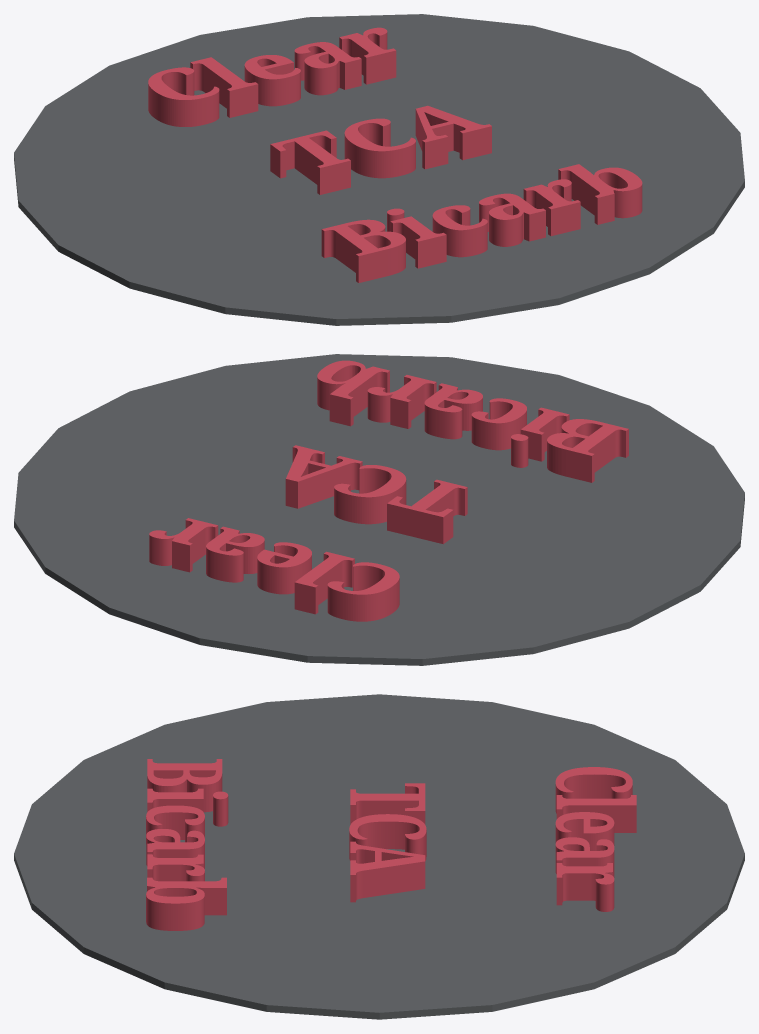
Rendered from jacksonville.gltf.
3 renders of one model, top to bottom at view 1: azimuth 30°, elevation 25°; view 2: azimuth 150°, elevation 25°; view 3: azimuth 270°, elevation 25°, orthographic.
Parts seen in each view (by area): view 1: Mesh_Mesh_head_geo001_lambert2SG001; view 2: Mesh_Mesh_head_geo001_lambert2SG001; view 3: Mesh_Mesh_head_geo001_lambert2SG001.
Part boxes in pixels (x1=…): Mesh_Mesh_head_geo001_lambert2SG001: x1=14, y1=14, x2=744, y2=325; Mesh_Mesh_head_geo001_lambert2SG001: x1=14, y1=354, x2=744, y2=665; Mesh_Mesh_head_geo001_lambert2SG001: x1=14, y1=694, x2=744, y2=1019.
Bounding box in the file's own units: 199 × 10 × 193.
